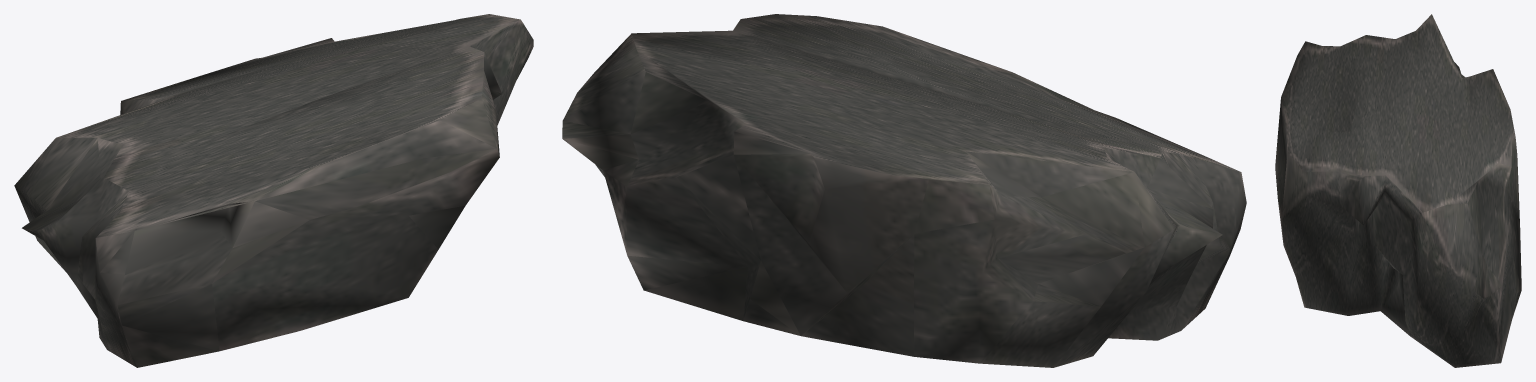
File: cliff_stone_slab.gltf
3 renders of one model, left to right at view 1: azimuth 30°, elevation 25°; view 2: azimuth 150°, elevation 25°; view 3: azimuth 270°, elevation 25°, orthographic. The views are drawn at different scales.
Parts seen in each view (by area): view 1: cliff_stone_slab; view 2: cliff_stone_slab; view 3: cliff_stone_slab.
Boxes of the visible parts, x1,y1,x2,y2 form: cliff_stone_slab: (14, 14, 533, 367); cliff_stone_slab: (562, 14, 1246, 367); cliff_stone_slab: (1275, 14, 1521, 367).
Size of the model in its own units: 2.2 by 0.75 by 0.92.
Materials: 1 (1 with a texture image).
